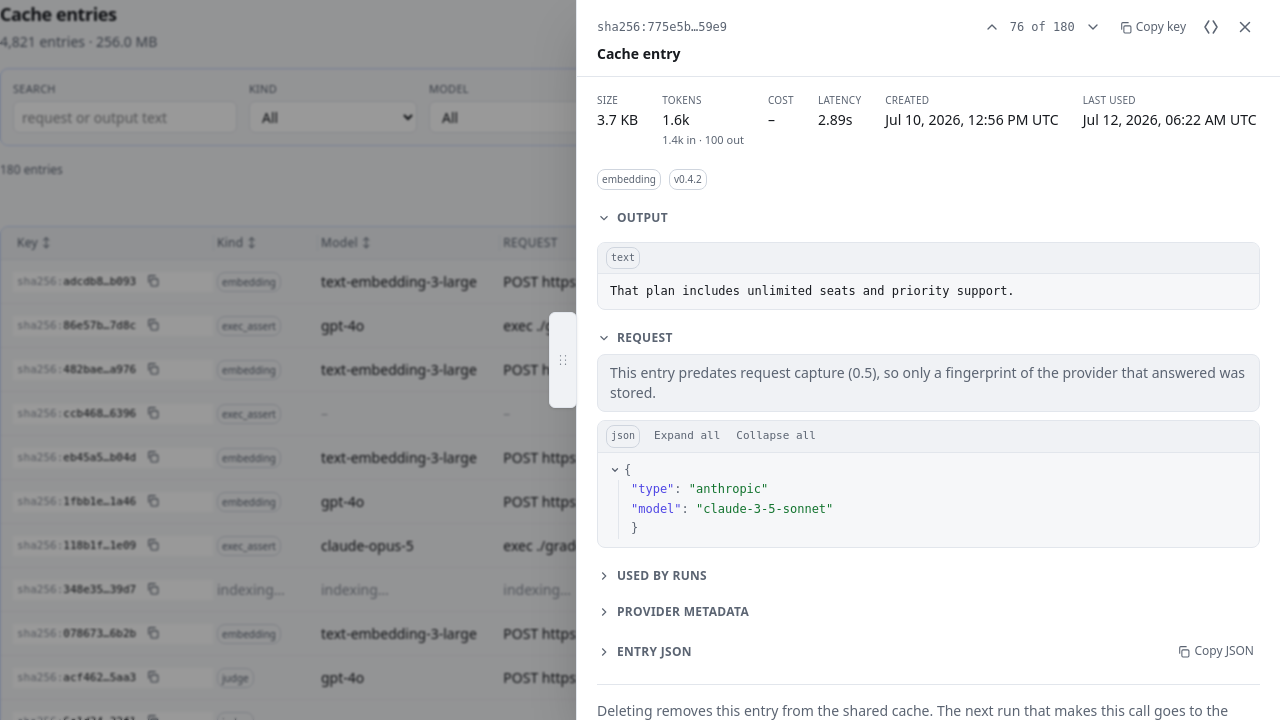
Test case: CacheEntryDrawer › does not fetch raw provider metadata until it is asked for
This screenshot has width=1280, height=720.
Click the button "Provider metadata": (683, 611) [597, 604, 1260, 620]
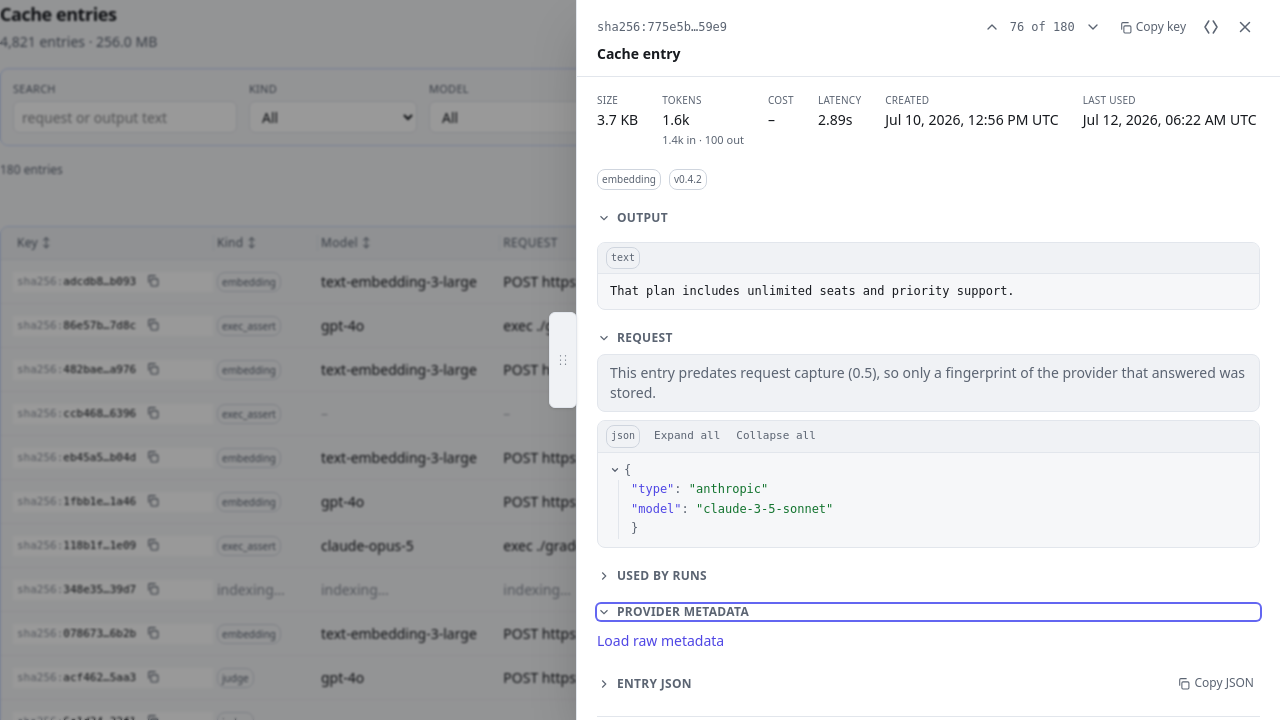
Now the button "Load raw metadata" is shown, box [597, 630, 724, 650]
